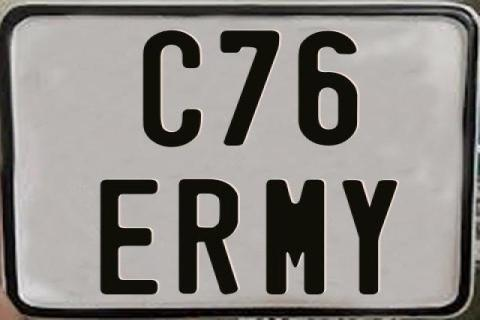0: (297, 30, 361, 148), (218, 30, 279, 146)
C: (143, 28, 207, 146)
E: (99, 177, 163, 293)
M: (266, 178, 327, 294)
R: (176, 179, 241, 297)
Y: (339, 180, 397, 296)
